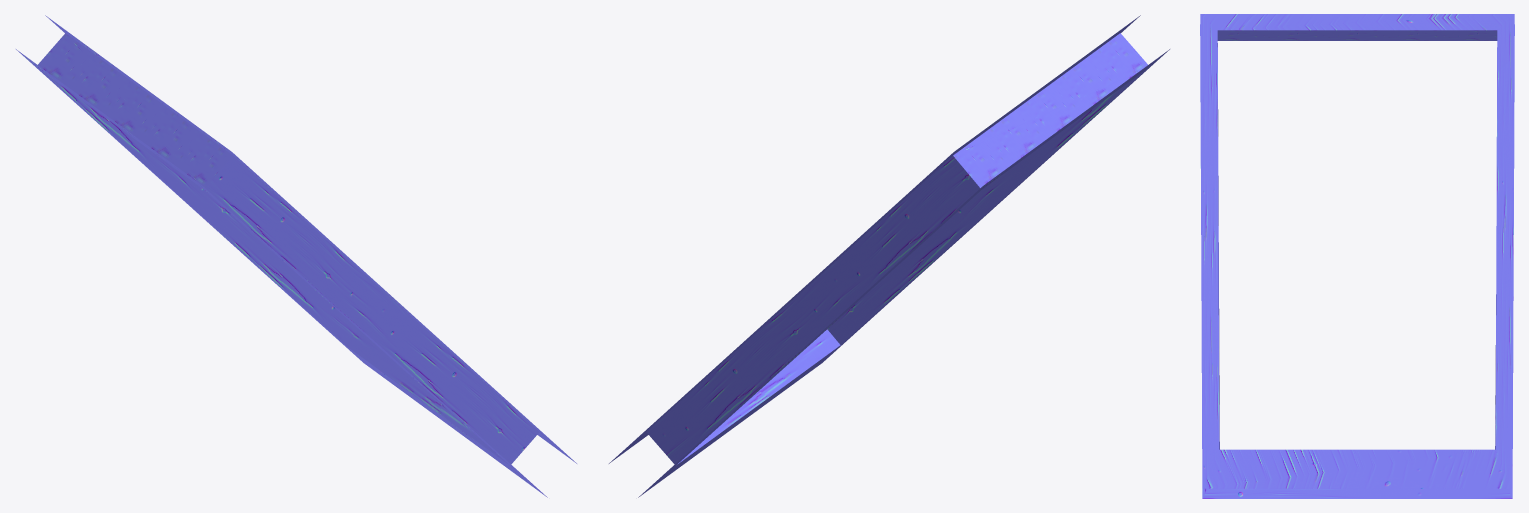
Rendered from m_e1_ceiling-window02.fbx.
The picture shows the model from 3 angles, left to right: view 1: azimuth 30°, elevation 25°; view 2: azimuth 150°, elevation 25°; view 3: azimuth 270°, elevation 25°; orthographic projection. The views are drawn at different scales.
Visible parts, largest first — view 1: m_e1_ceiling-window02; view 2: m_e1_ceiling-window02; view 3: m_e1_ceiling-window02.
Boxes of the visible parts, x1=… form: m_e1_ceiling-window02: x1=16, y1=15, x2=576, y2=497; m_e1_ceiling-window02: x1=609, y1=15, x2=1169, y2=497; m_e1_ceiling-window02: x1=1200, y1=14, x2=1514, y2=498.
Size of the model in its own units: 65.11 by 70.17 by 56.35.
